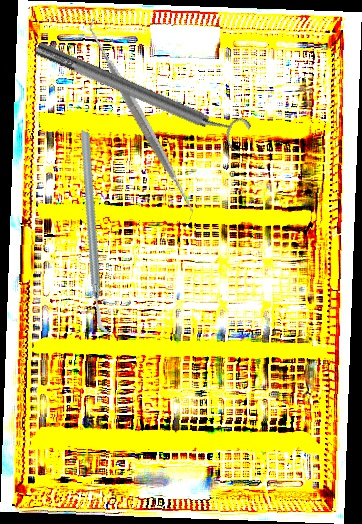Chopper: (18, 129, 174, 338)
Fixation Ring: (30, 29, 253, 156)
Spatula Surgical: (37, 17, 246, 221)
